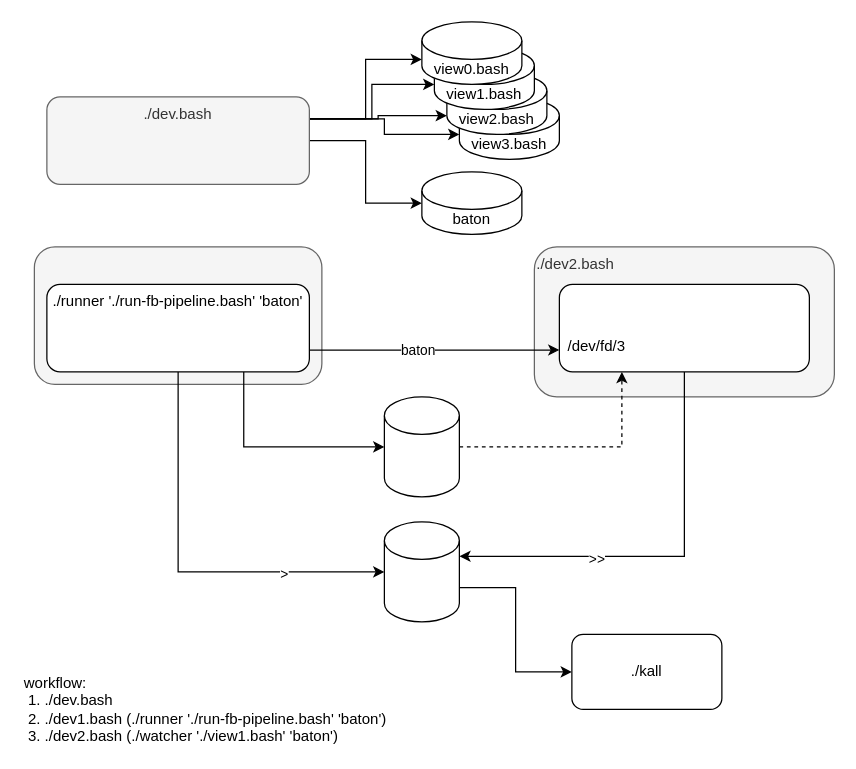
The diagram is 856 pixels wide and 769 high, and some of its shapes have lost their labels. The shapes that lost their labels are listed below. From the top down, each one's box as (x1, y1, x2, y2) in pixels, then its label:
(33, 246, 322, 384): ./dev1.bash
(558, 283, 809, 372): ./watcher './view1.bash' 'baton'
(383, 396, 459, 497): fb.pl
(383, 521, 459, 622): pids
